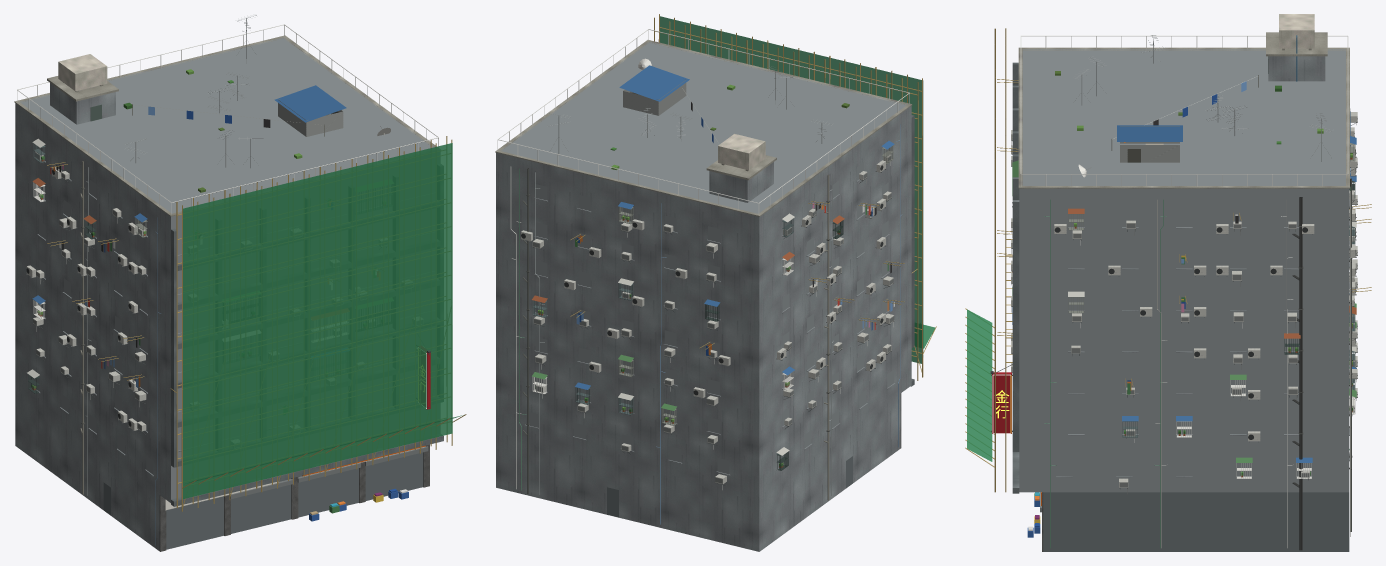
File: cantilever-walkup.glb
3 renders of one model, left to right at view 1: azimuth 30°, elevation 25°; view 2: azimuth 150°, elevation 25°; view 3: azimuth 270°, elevation 25°, orthographic. The views are drawn at different scales.
Visible parts, largest first — view 1: Scaffold_net, Building_wall, LOD_vc, Building_metal, Building_vc, Building_fin, Building_slab, Scaffold_bamboo, Building_ac, Building_granite, Building_tank, Building_tin (+1 smaller); view 2: Building_wall, LOD_vc, Scaffold_net, Building_metal, Building_vc, Building_ac, Building_slab, Scaffold_bamboo, Building_tank, Building_tin, Building_fin; view 3: LOD_vc, Building_vc, Building_metal, Building_slab, Building_ac, Scaffold_net, Building_fin, Building_wall, Scaffold_bamboo, Building_tank, Building_board, Building_tin.
Boxes of the visible parts, x1=… form: Scaffold_net: x1=183, y1=143, x2=463, y2=499; Building_wall: x1=15, y1=37, x2=433, y2=550; LOD_vc: x1=21, y1=38, x2=432, y2=549; Building_metal: x1=17, y1=15, x2=438, y2=510; Building_vc: x1=27, y1=69, x2=408, y2=545; Building_fin: x1=171, y1=228, x2=443, y2=506; Building_slab: x1=14, y1=35, x2=435, y2=216; Scaffold_bamboo: x1=170, y1=136, x2=466, y2=511; Building_ac: x1=26, y1=151, x2=146, y2=431; Building_granite: x1=159, y1=444, x2=429, y2=551; Building_tank: x1=58, y1=54, x2=107, y2=91; Building_tin: x1=278, y1=99, x2=343, y2=136; Building_wall: x1=496, y1=42, x2=911, y2=551; LOD_vc: x1=501, y1=43, x2=905, y2=517; Scaffold_net: x1=660, y1=16, x2=935, y2=363; Building_metal: x1=497, y1=29, x2=909, y2=485; Building_vc: x1=510, y1=58, x2=901, y2=524; Building_ac: x1=521, y1=154, x2=894, y2=484; Building_slab: x1=495, y1=40, x2=912, y2=216; Scaffold_bamboo: x1=654, y1=14, x2=936, y2=380; Building_tank: x1=718, y1=134, x2=765, y2=170; Building_tin: x1=623, y1=79, x2=686, y2=115; Building_fin: x1=910, y1=115, x2=914, y2=386; LOD_vc: x1=1019, y1=50, x2=1349, y2=551; Building_vc: x1=1011, y1=35, x2=1356, y2=550; Building_metal: x1=990, y1=35, x2=1357, y2=512; Building_slab: x1=1018, y1=32, x2=1349, y2=188; Building_ac: x1=1011, y1=112, x2=1357, y2=487; Scaffold_net: x1=967, y1=309, x2=992, y2=461; Building_fin: x1=1012, y1=62, x2=1019, y2=493; Building_wall: x1=1022, y1=49, x2=1350, y2=477; Scaffold_bamboo: x1=965, y1=28, x2=1012, y2=492; Building_tank: x1=1279, y1=14, x2=1314, y2=48; Building_board: x1=992, y1=372, x2=1041, y2=505; Building_tin: x1=1120, y1=126, x2=1179, y2=162.
Size of the model in its own units: 25 by 30.35 by 27.12.
Materials: 22 (10 with a texture image).
